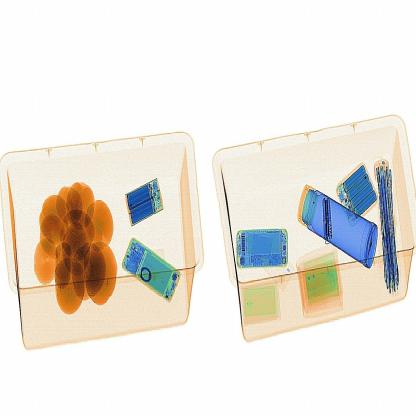scissors: (317, 190, 341, 253)
